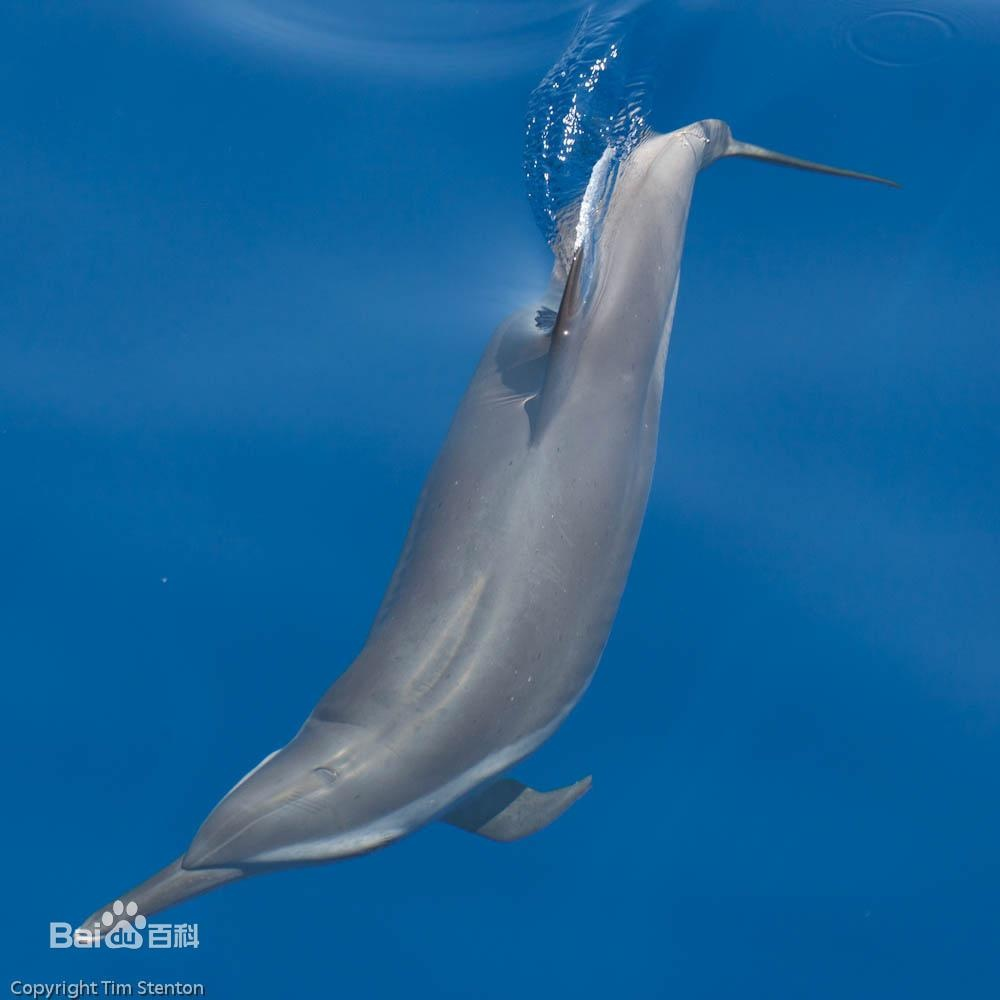fish: (97, 91, 918, 934)
